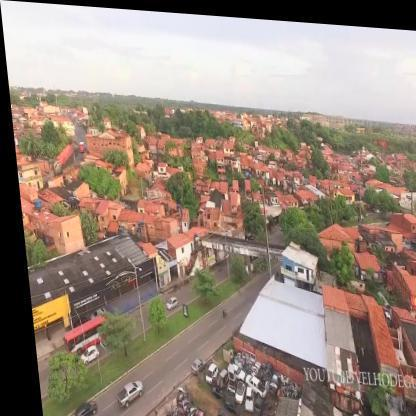lixo: (199, 343, 275, 400)
